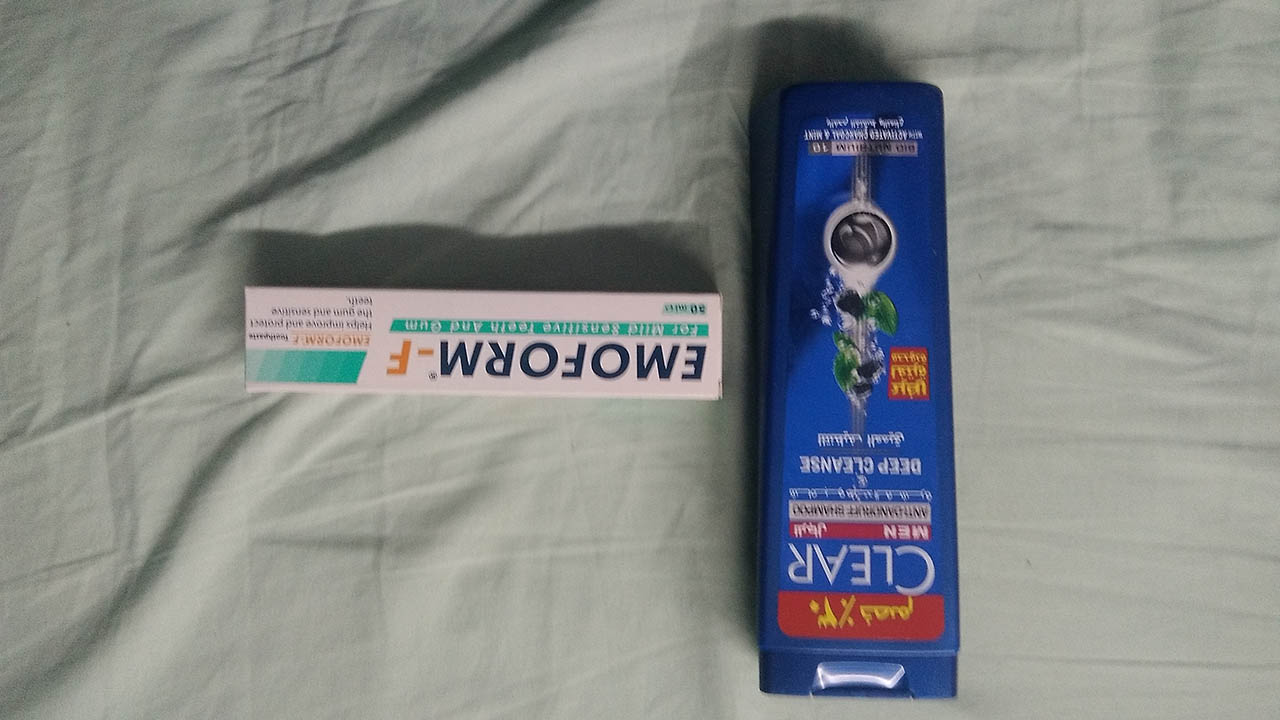Shampoo-Clear 4.7$: (745, 76, 975, 706)
Toothpaste-F 1.5$: (232, 272, 736, 419)
